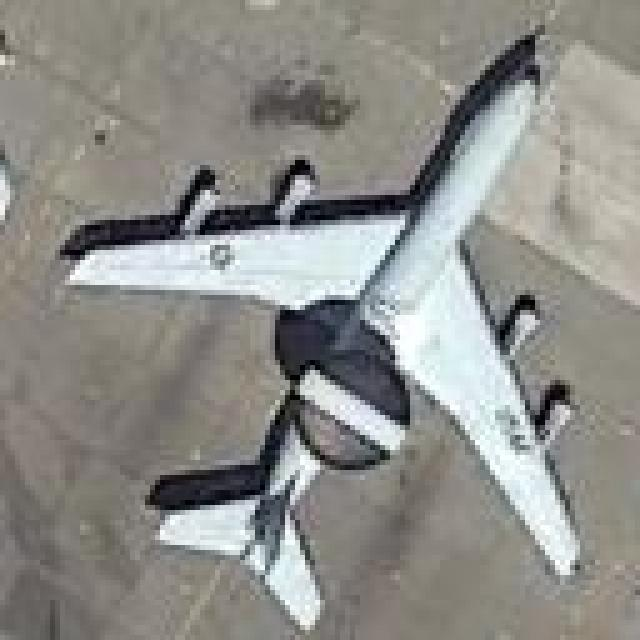E-3_TopDown: (50, 20, 590, 625)
